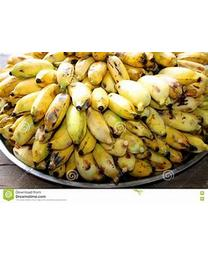banana: (0, 48, 206, 183)
